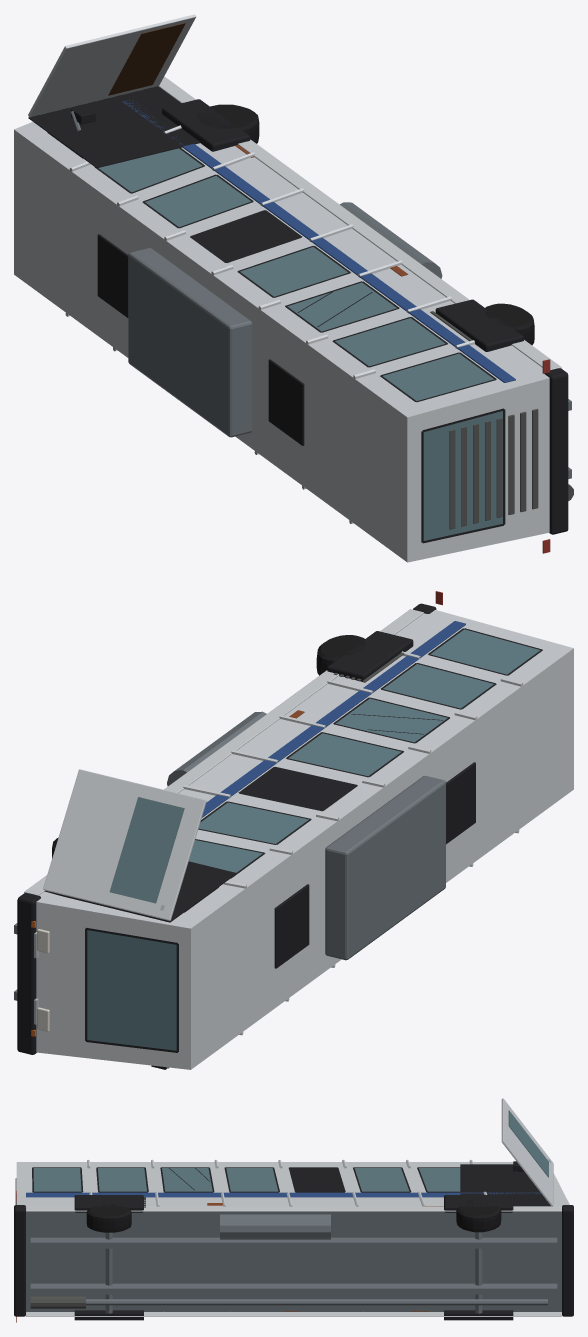
The model's file is bus_city_side.glb.
3 renders of one model, top to bottom at view 1: azimuth 30°, elevation 25°; view 2: azimuth 150°, elevation 25°; view 3: azimuth 270°, elevation 25°, orthographic. The views are drawn at different scales.
Visible parts, largest first — view 1: bus_city_side; view 2: bus_city_side; view 3: bus_city_side.
Part boxes in pixels (<box>): bus_city_side: <box>14,14,573,562</box>; bus_city_side: <box>14,591,573,1069</box>; bus_city_side: <box>14,1098,573,1322</box>.
Size of what is drawn, in the model's own units: 3.6 by 4.39 by 12.12.
2 materials, 2 textured.
